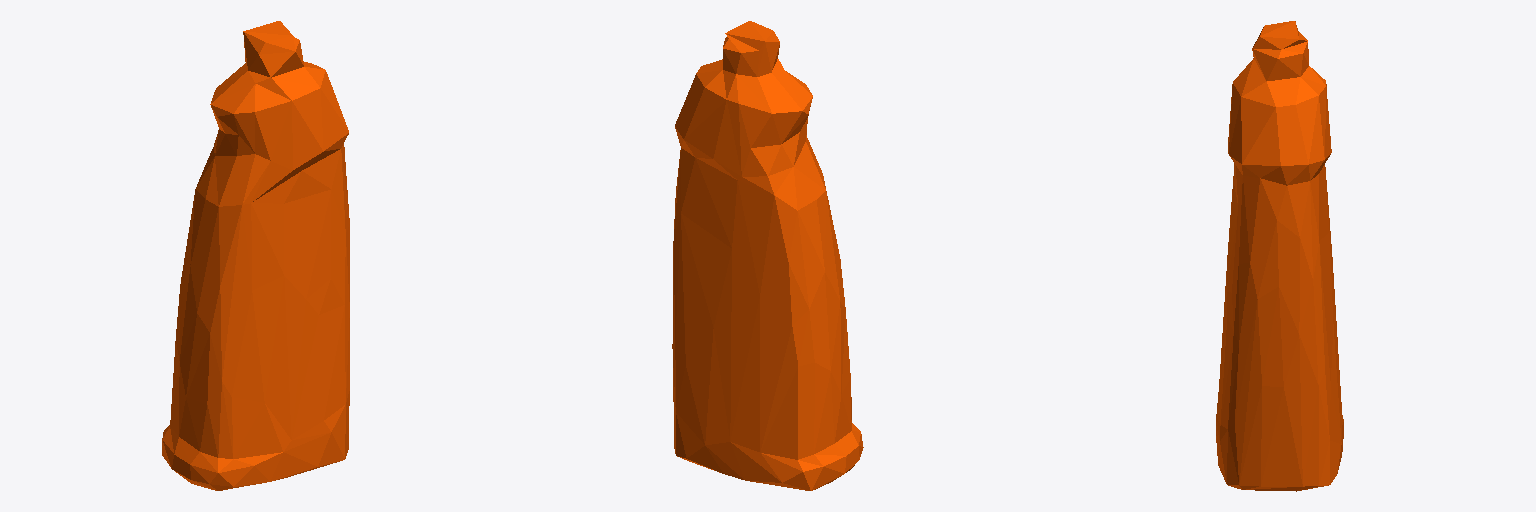
URDF robot description (021_bleach_cleanser):
<?xml version="1.0" ?>
<robot name="021_bleach_cleanser">
   <material name="obj_color">
      <color rgba="1.0 0.423529411765 0.0392156862745 1.0"/>
   </material>
   <link name="top">
      <inertial>
         <origin rpy="0.0001938479814761639 0.001078681116317014 0.001158158028961082" xyz="-0.0004731336604171177 0.002304455856064131 -0.01218781041393169"/>
         <mass value="0.24875"/>
         <inertia ixx="0.001074275084210998" ixy="6.787178147032394e-07" ixz="-6.232387503194486e-05" iyy="0.001158152261702392" iyz="2.50996597613402e-09" izz="0.0001982597808408702"/>
      </inertial>
      <visual>
         <origin rpy="0 0 0" xyz="0 0 0"/>
         <geometry>
            <mesh filename="top_watertight_tiny.stl" scale="1 1 1"/>
         </geometry>
         <material name="obj_color"/>
      </visual>
      <collision>
         <origin rpy="0 0 0" xyz="0 0 0"/>
         <geometry>
            <mesh filename="top_watertight_tiny.obj" scale="1 1 1"/>
         </geometry>
      </collision>
   </link>
   <link name="bottom">
      <inertial>
         <origin rpy="1.633333333199431e-08 1.633333333199431e-08 1.633333333362855e-08" xyz="0.3464080000000008 0.3464080000000008 0.3464080000000008"/>
         <mass value="0.0009800000000000017"/>
         <inertia ixx="1.633333333253906e-08" ixy="5.447480642029219e-19" ixz="5.447480642029219e-19" iyy="1.633333333253906e-08" iyz="5.447480642029219e-19" izz="1.633333333253906e-08"/>
      </inertial>
      <visual>
         <origin rpy="0 0 0" xyz="0 0 0"/>
         <geometry>
            <mesh filename="bottom_watertight_tiny.stl" scale="1 1 1"/>
         </geometry>
         <material name="obj_color"/>
      </visual>
   </link>
   <link name="world"/>
   <joint name="world_to_base" type="fixed">
      <origin xyz="0 0 0"/>
      <axis xyz="0 0 0"/>
      <parent link="world"/>
      <child link="bottom"/>
   </joint>
   <joint name="rotation" type="revolute">
      <origin xyz="0 0 0"/>
      <axis xyz="0 0 -1"/>
      <parent link="bottom"/>
      <child link="top"/>
      <dynamics damping="1.0" friction="1.0"/>
      <limit effort="0.1" velocity="0.1" lower="0" upper="0.001"/>
   </joint>
</robot>

--- What the picture shows (computed from the rendered views, not written in the file) ---
3 views of the same robot in one strip: view 1: azimuth 30°, elevation 25°; view 2: azimuth 150°, elevation 25°; view 3: azimuth 270°, elevation 25° (orthographic).
Robot: 021_bleach_cleanser — 3 links, 2 joints (1 revolute, 1 fixed); root link world; default pose: every joint at zero.
Links seen in each view (by area): view 1: top; view 2: top; view 3: top.
Link boxes in pixels (x1=…): top: x1=162, y1=21, x2=349, y2=490; top: x1=672, y1=21, x2=863, y2=490; top: x1=1216, y1=21, x2=1343, y2=491.
Bounding box of the posed robot: 0.1025 × 0.0672 × 0.2506 m (x, y, z).
1 mesh visuals loaded from 2 distinct referenced files (1 binary STL); not drawn: 1 (reference not matched to a file when rendering).
